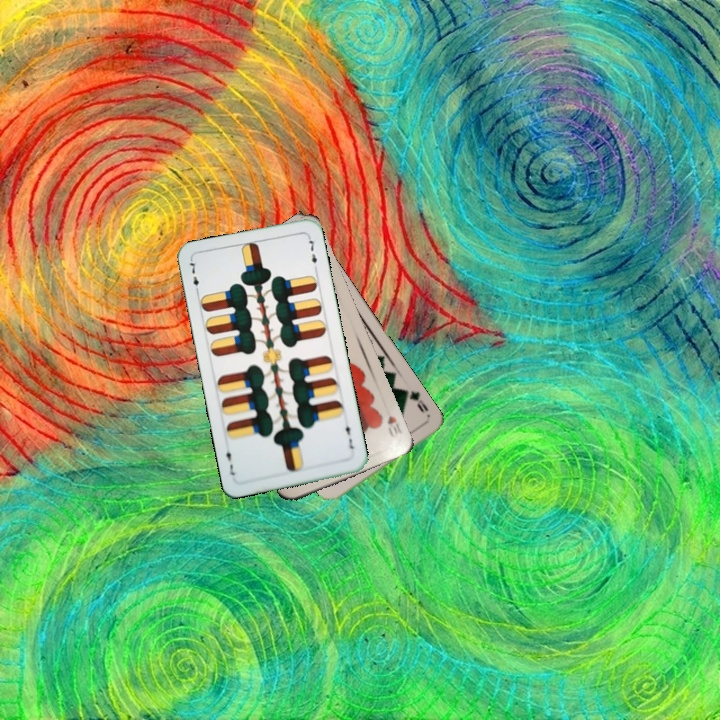E7: (186, 256, 202, 297), (341, 417, 357, 452)
G9: (400, 386, 431, 416)
H10: (383, 412, 404, 441)
